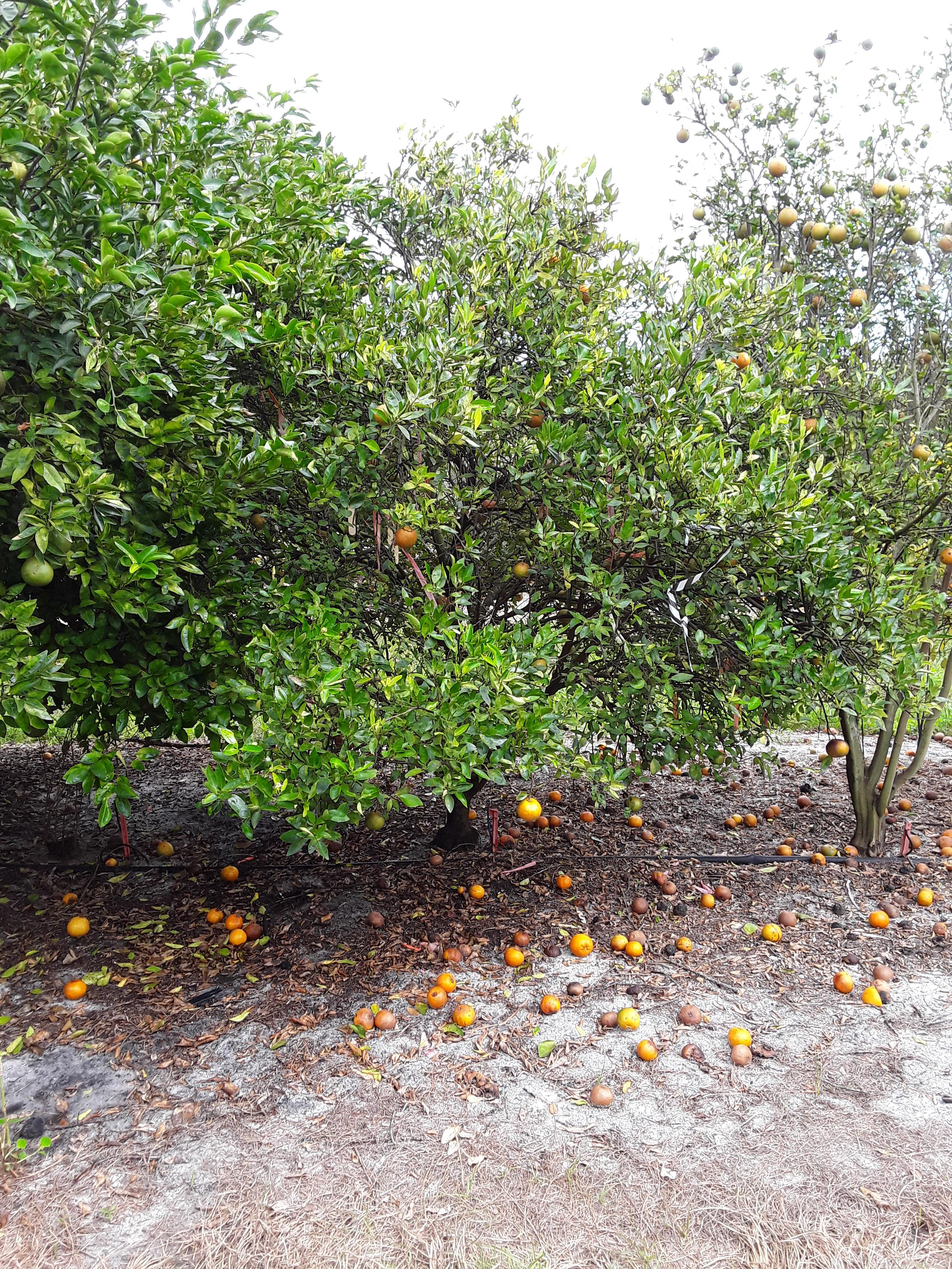fruit_on_ground: (24, 549, 55, 589), (390, 523, 421, 554), (824, 735, 853, 763), (515, 795, 544, 823), (575, 279, 599, 309), (433, 586, 456, 617), (373, 401, 399, 426), (908, 439, 933, 464), (9, 160, 31, 186), (817, 178, 841, 201), (777, 208, 798, 233), (807, 217, 828, 242), (866, 175, 887, 199), (827, 224, 848, 247), (920, 327, 941, 350), (523, 411, 545, 432), (810, 645, 829, 669), (903, 220, 922, 244), (542, 247, 564, 267), (912, 281, 934, 301), (770, 155, 789, 178), (528, 657, 552, 675), (515, 559, 534, 581), (892, 178, 911, 200), (696, 593, 721, 609), (800, 217, 819, 238), (915, 347, 934, 368), (480, 494, 498, 516), (691, 202, 709, 224), (848, 202, 866, 224), (845, 232, 868, 249), (728, 56, 747, 76), (777, 257, 798, 275), (735, 349, 753, 369), (248, 515, 273, 529), (735, 220, 752, 240), (806, 238, 826, 255), (934, 231, 950, 252), (637, 92, 655, 110), (935, 549, 951, 569), (782, 134, 803, 149), (700, 47, 717, 65), (627, 795, 644, 813), (674, 126, 690, 145), (850, 289, 866, 308), (725, 72, 745, 87), (663, 86, 677, 107), (802, 418, 818, 436), (812, 44, 828, 61), (718, 90, 734, 107), (861, 34, 874, 54), (708, 42, 722, 60), (811, 292, 825, 310), (684, 657, 701, 670)
fruit_on_tree: (371, 1006, 400, 1036), (676, 1001, 706, 1029), (870, 959, 899, 987), (68, 913, 94, 944), (450, 999, 477, 1028), (597, 1006, 626, 1033), (724, 1021, 754, 1047), (829, 968, 857, 995), (352, 1004, 378, 1032), (591, 1085, 616, 1114), (866, 906, 892, 933), (434, 969, 460, 996), (860, 984, 887, 1010), (425, 984, 450, 1012), (729, 1043, 758, 1066), (65, 980, 89, 1006), (618, 1005, 642, 1031), (186, 855, 206, 884), (225, 924, 248, 949), (563, 974, 586, 998), (373, 870, 395, 894), (538, 992, 560, 1016), (636, 1037, 657, 1062), (626, 933, 648, 956), (501, 944, 523, 967), (368, 809, 389, 832), (880, 901, 901, 924), (243, 919, 264, 942), (758, 926, 779, 949), (569, 937, 590, 960), (497, 832, 517, 855), (781, 907, 801, 930), (895, 795, 916, 816), (366, 907, 386, 929), (809, 849, 830, 869), (441, 944, 461, 965), (225, 911, 244, 933), (545, 786, 564, 807), (714, 881, 733, 902), (821, 839, 840, 859), (662, 878, 682, 897), (473, 881, 492, 901), (154, 838, 172, 859), (625, 979, 643, 1000), (219, 867, 238, 886), (917, 883, 935, 903), (915, 889, 933, 909), (680, 1041, 698, 1061), (904, 833, 926, 849), (840, 952, 863, 967), (515, 928, 532, 948), (580, 808, 598, 826), (723, 814, 740, 833), (844, 856, 863, 873), (654, 867, 671, 886), (543, 943, 562, 960), (59, 890, 75, 910), (935, 830, 952, 848), (205, 905, 222, 923), (763, 804, 779, 823), (628, 813, 647, 829), (633, 899, 649, 918), (675, 939, 691, 958), (640, 826, 656, 844), (840, 843, 864, 855), (102, 856, 118, 874), (655, 897, 671, 915), (431, 850, 446, 869), (933, 927, 948, 946), (830, 901, 850, 915), (743, 812, 759, 829), (796, 795, 814, 810), (896, 918, 914, 933), (731, 809, 745, 828), (327, 833, 340, 853), (799, 781, 815, 797), (464, 805, 480, 821), (829, 919, 845, 935), (935, 918, 950, 935), (930, 727, 948, 741), (768, 801, 782, 819), (702, 889, 716, 907), (672, 903, 691, 916), (507, 824, 523, 839), (561, 828, 576, 844), (915, 861, 931, 876), (662, 942, 677, 958), (549, 812, 561, 831), (937, 824, 952, 839), (817, 750, 831, 766), (923, 789, 941, 801), (938, 842, 952, 857), (780, 841, 793, 857), (559, 879, 572, 895), (457, 884, 470, 900), (877, 776, 889, 793), (880, 753, 895, 766), (883, 880, 896, 895), (844, 928, 859, 941), (940, 762, 952, 778), (654, 819, 671, 830), (596, 739, 610, 752), (670, 765, 684, 778), (826, 723, 838, 738), (898, 863, 913, 875), (700, 765, 716, 776), (731, 780, 743, 794), (688, 790, 700, 804), (536, 816, 550, 828), (905, 746, 917, 759), (598, 748, 609, 762), (942, 733, 952, 748), (878, 806, 893, 816), (609, 746, 622, 757), (884, 814, 898, 824), (943, 858, 952, 873), (821, 725, 832, 737), (42, 750, 52, 762), (785, 757, 795, 768), (742, 767, 752, 778)
